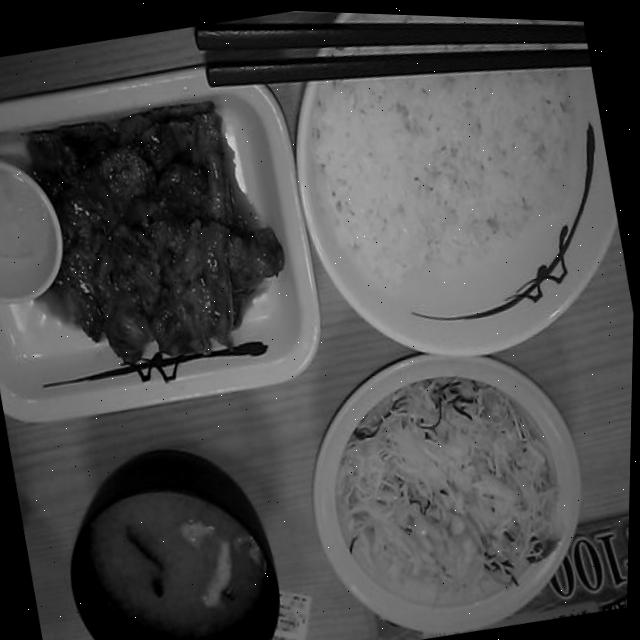汤锅炖物: (51, 426, 306, 640)
米饭主食: (261, 8, 640, 385)
蔬菜料理: (291, 327, 617, 640)
